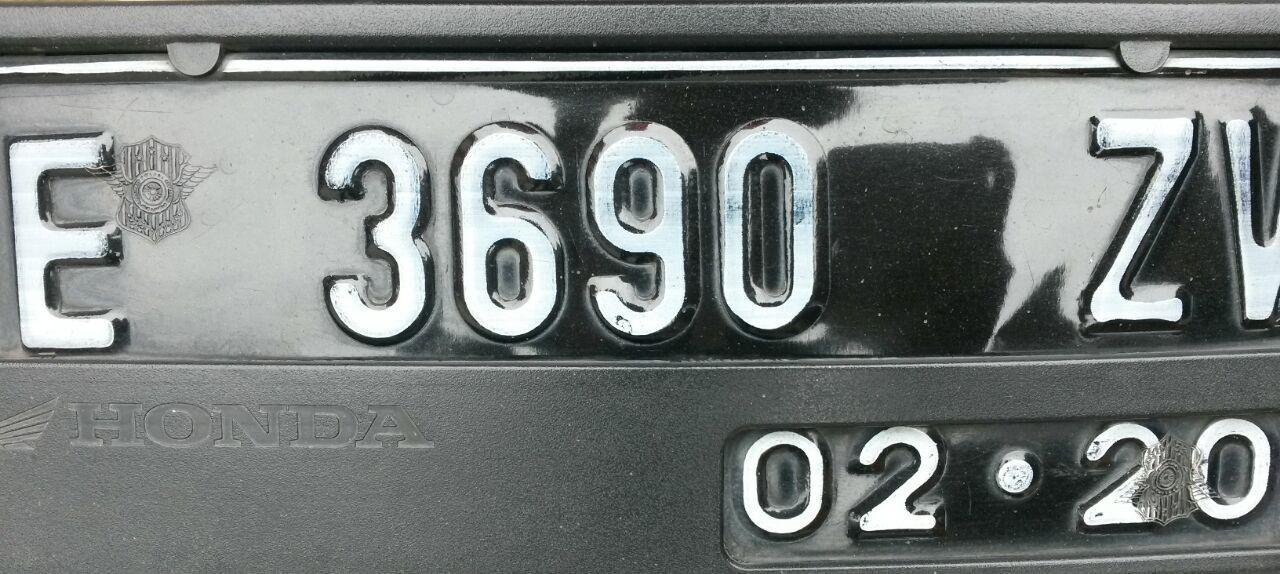clone-license-plate: (2, 34, 1279, 565)
